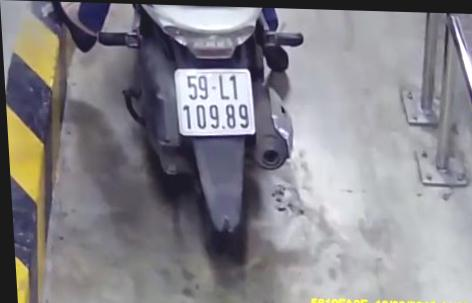License_Plate: (167, 65, 262, 146)
